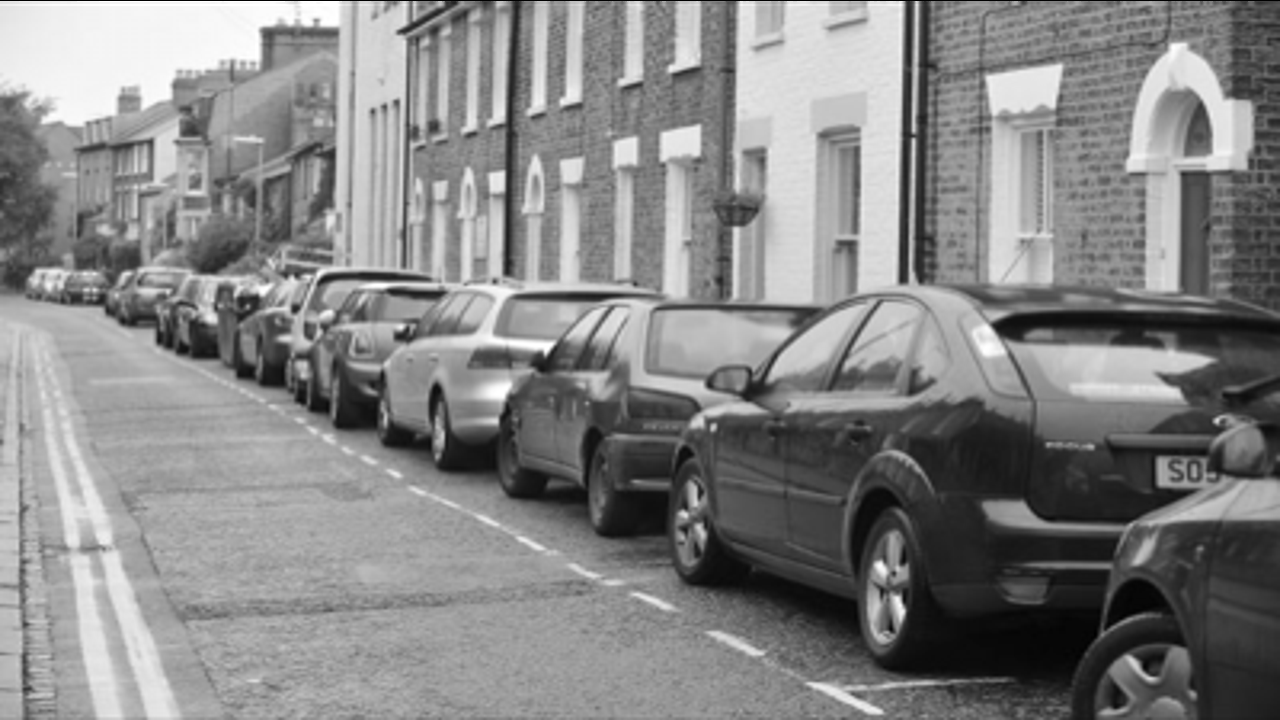license: (1150, 450, 1231, 491)
